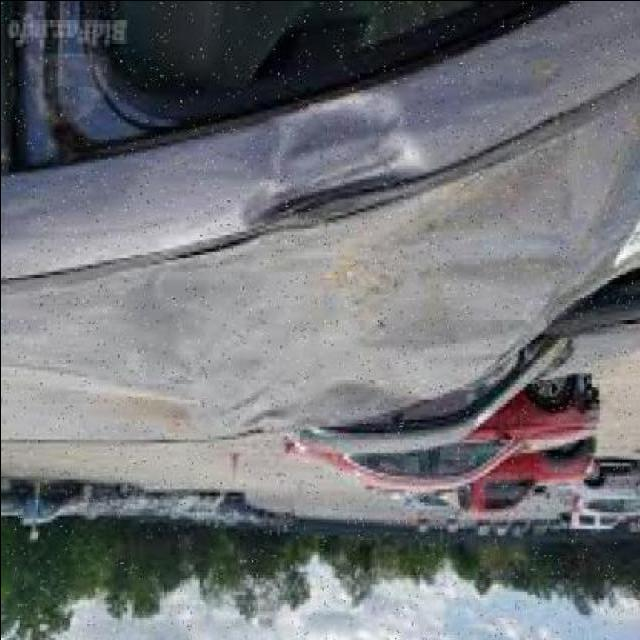roof-dent: (2, 53, 640, 443)
